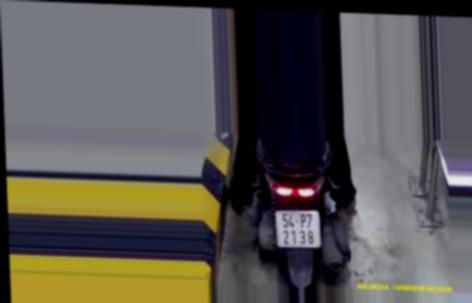License_Plate: (272, 208, 323, 251)
